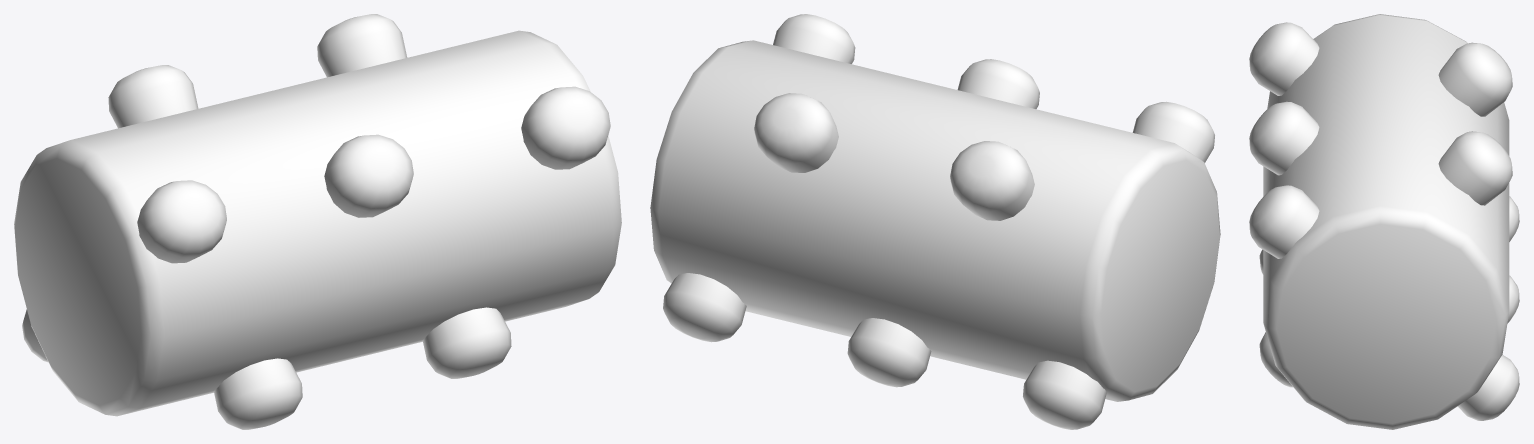
The model's file is Obstacle1.fbx.
The picture shows the model from 3 angles, left to right: view 1: azimuth 30°, elevation 25°; view 2: azimuth 150°, elevation 25°; view 3: azimuth 270°, elevation 25°; orthographic projection. The views are drawn at different scales.
Visible parts, largest first — view 1: Cylinder.493, Cylinder.510; view 2: Cylinder.493, Cylinder.510; view 3: Cylinder.493, Cylinder.510.
Boxes of the visible parts, bbox=[...] form: Cylinder.493: bbox=[14, 30, 621, 416]; Cylinder.510: bbox=[22, 14, 610, 429]; Cylinder.493: bbox=[650, 40, 1220, 401]; Cylinder.510: bbox=[663, 14, 1214, 429]; Cylinder.493: bbox=[1263, 14, 1509, 429]; Cylinder.510: bbox=[1249, 22, 1519, 420].
Size of the model in its own units: 118 by 66.6 by 65.85.
